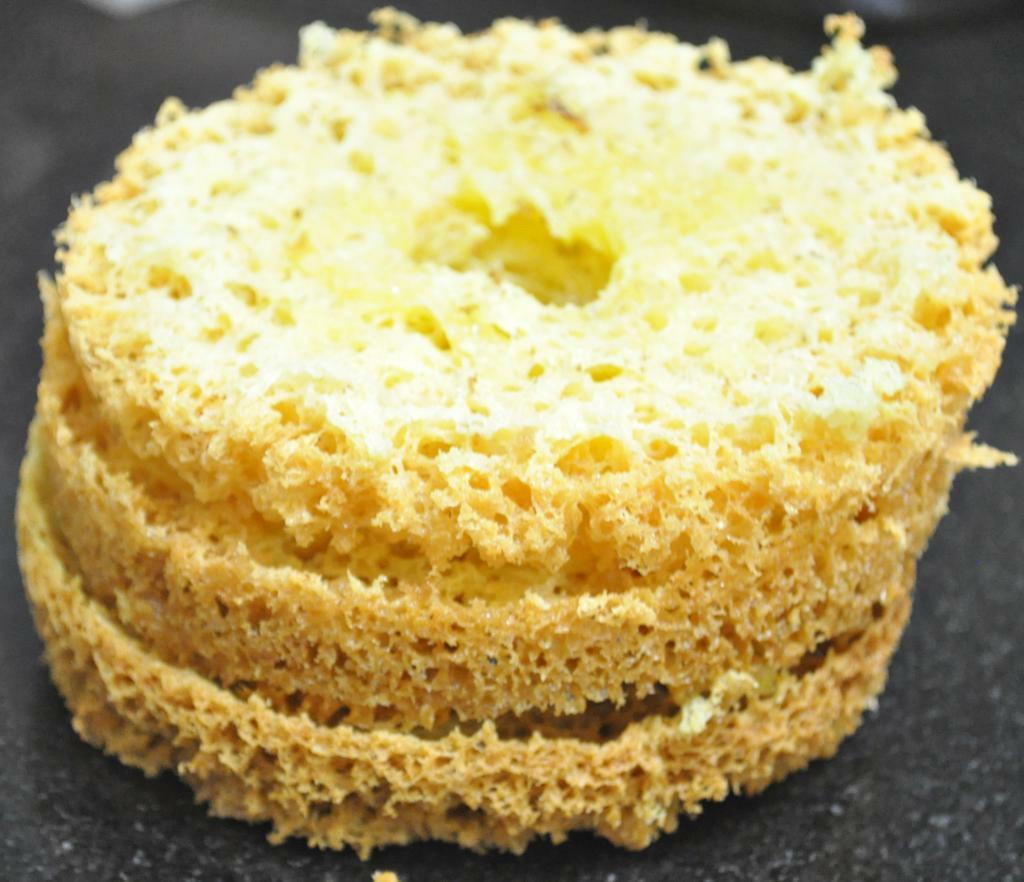Ghevar: (0, 0, 1024, 585), (38, 272, 962, 722), (10, 420, 915, 852)
